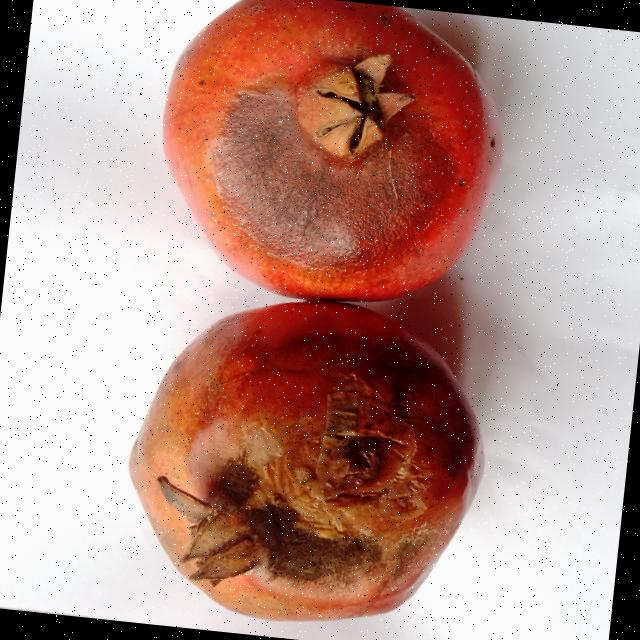Rotten: (110, 281, 506, 640), (138, 0, 527, 318)
